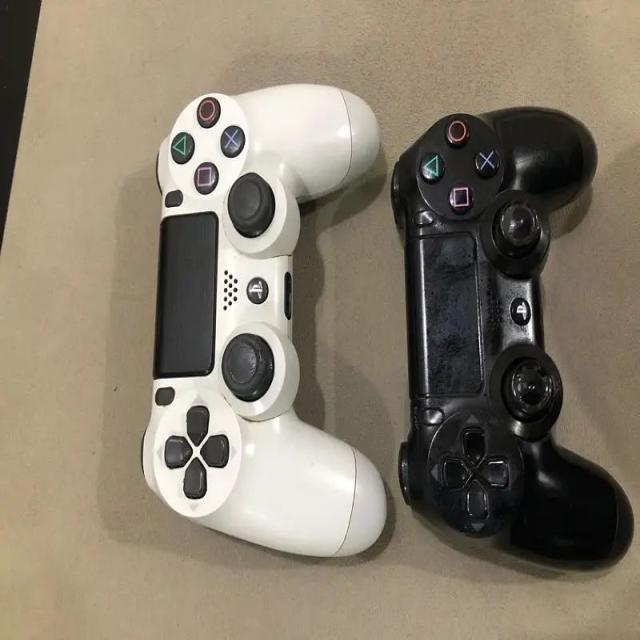electronic: (140, 81, 388, 559), (390, 104, 631, 566)
